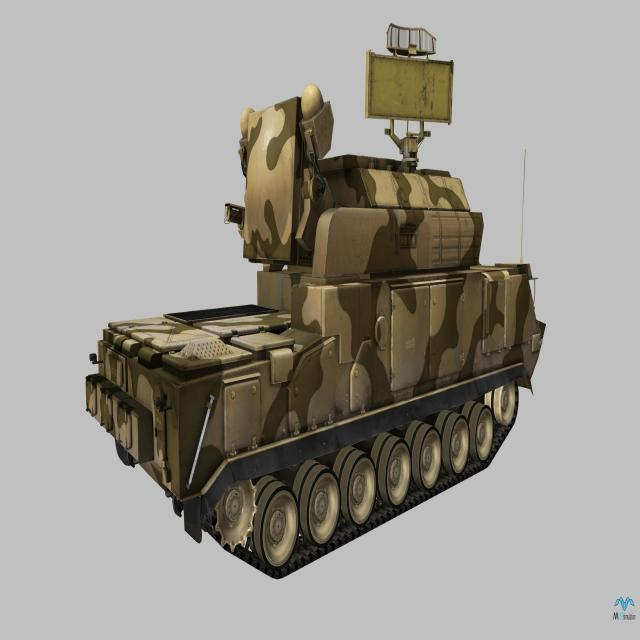MIL_EW_RDR: (87, 23, 546, 581)
